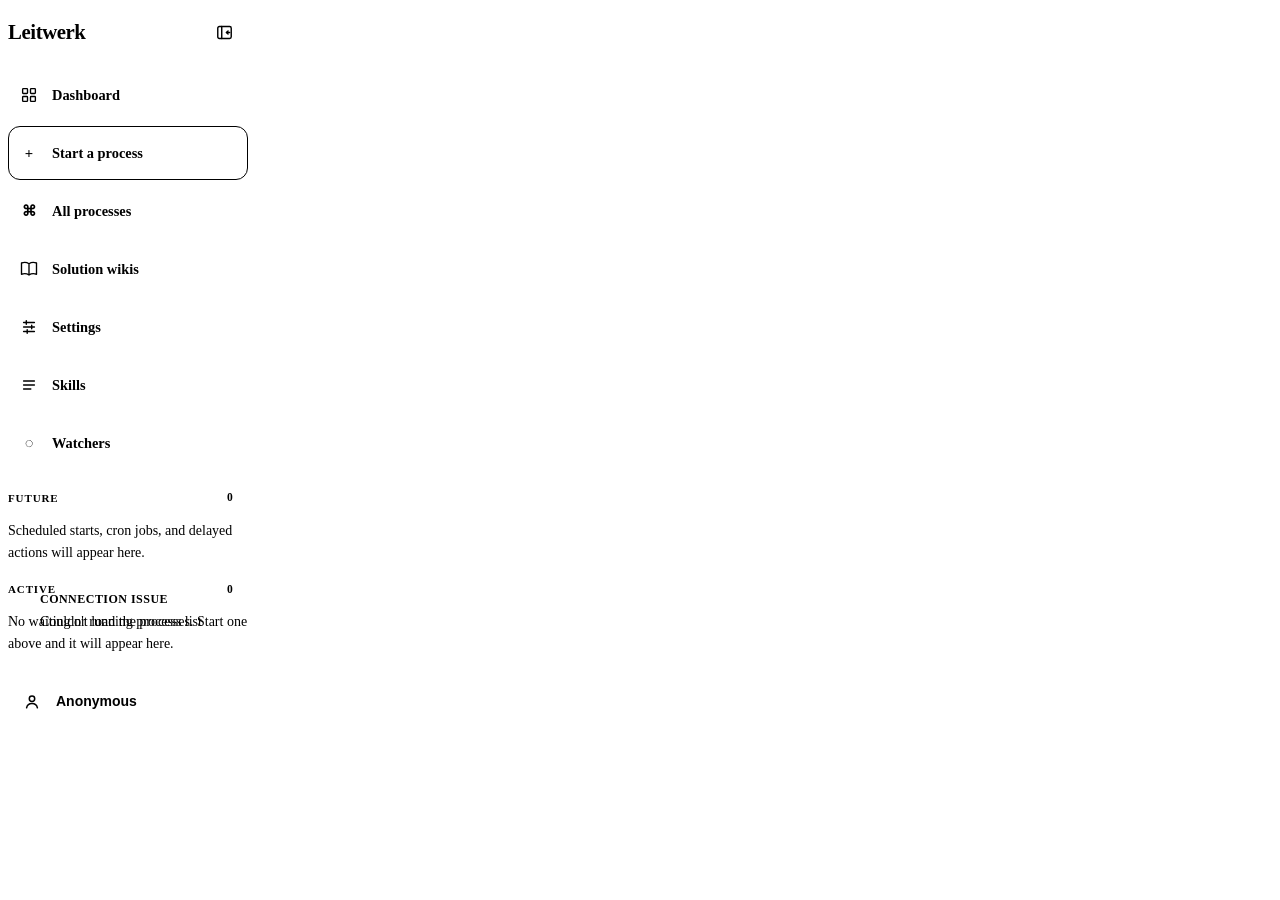
it: Sidebar › shows connection errors alongside the empty current-processes state
Click the button named "Collapse sidebar".
click(224, 32)  # box top-left (200, 8), bottom-right (248, 56)
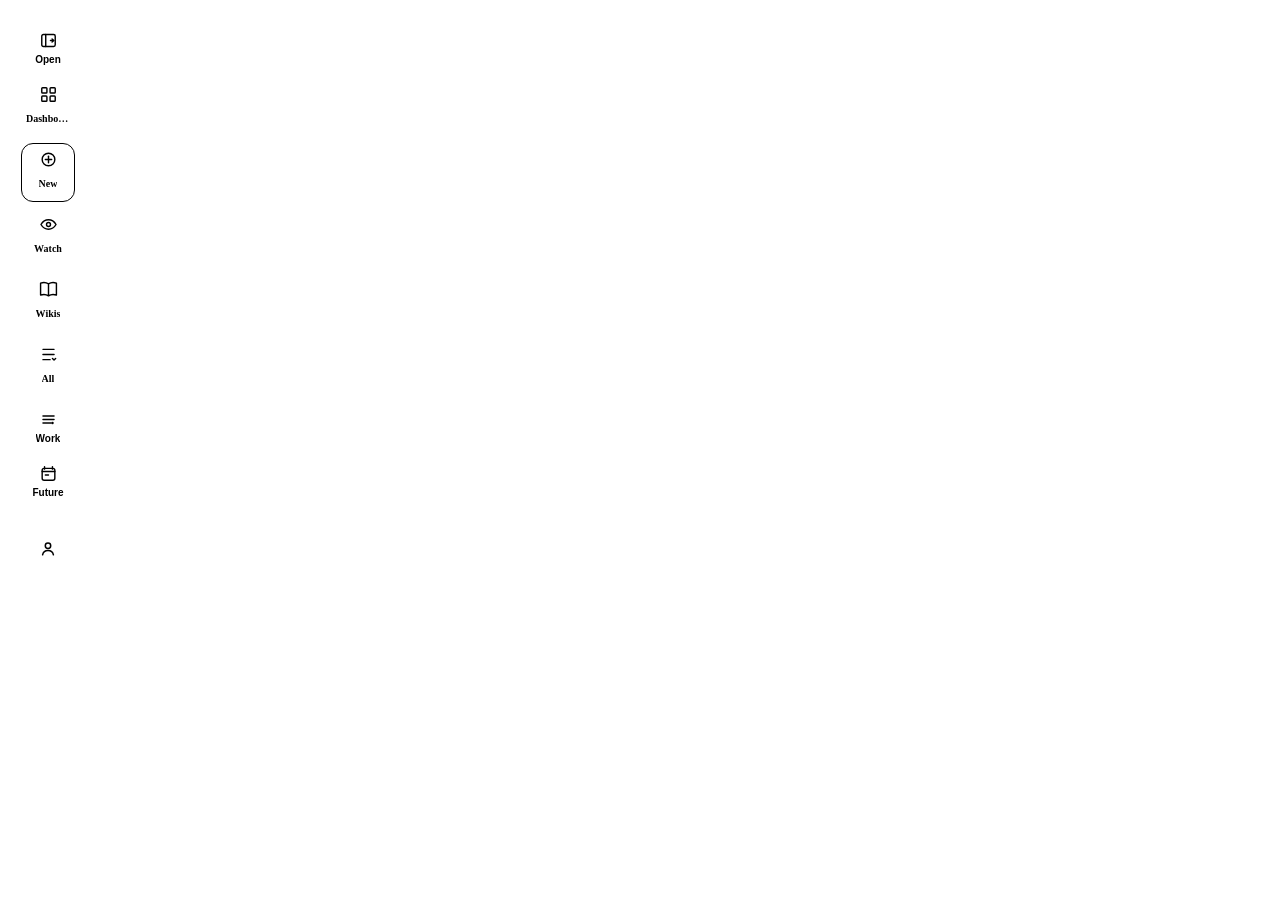
Click the button "Work".
click(48, 427)  # box top-left (24, 403), bottom-right (72, 451)
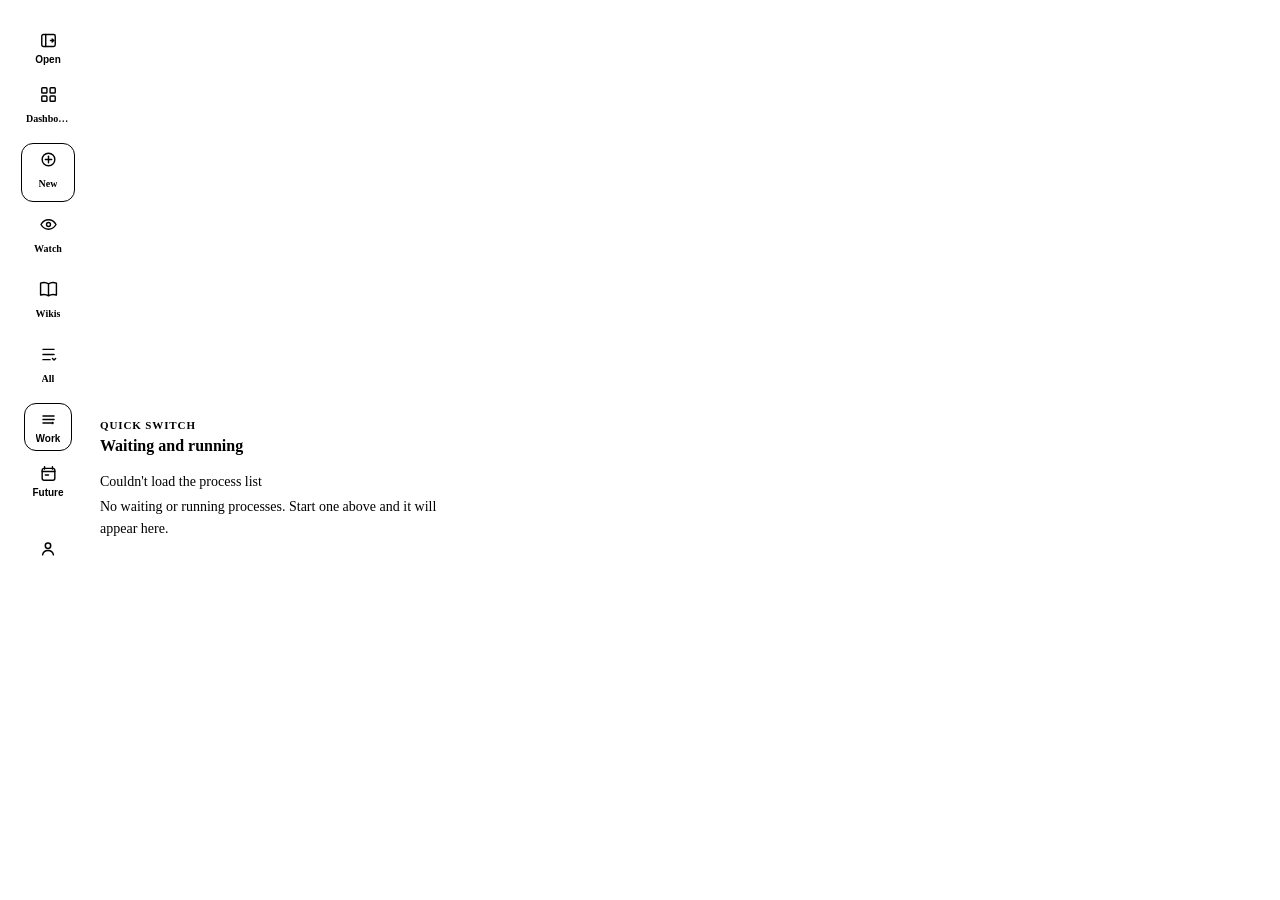
Now the dialog shows "Couldn't load the process list", box top-left (100, 474), bottom-right (262, 489)
Now the dialog shows "No waiting or running processes. Start one above and it will appear here.", box top-left (100, 499), bottom-right (436, 536)
